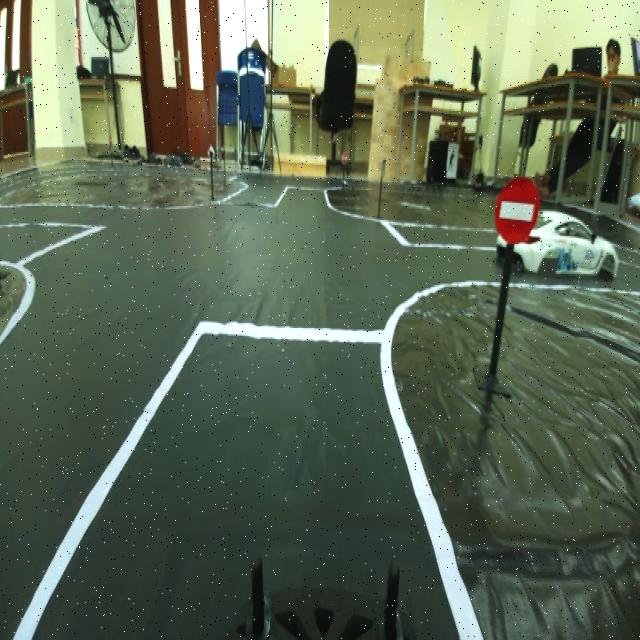no_entry: (490, 165, 538, 237)
